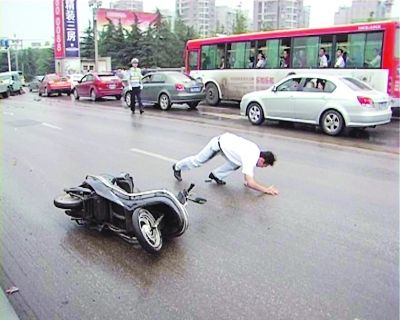10+: (1, 18, 396, 201)
down: (167, 130, 285, 202)
